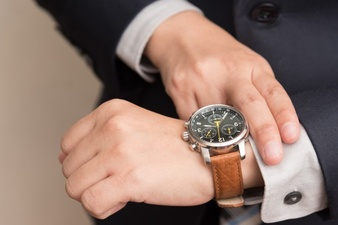clock: (190, 105, 247, 145)
